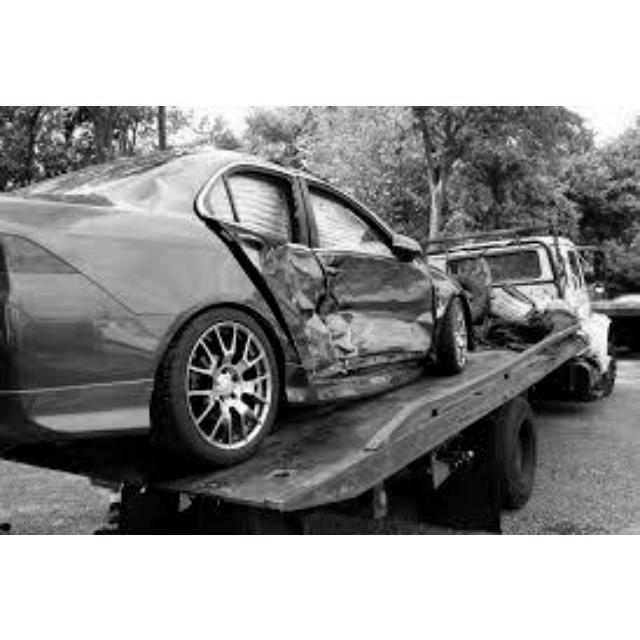Runningboard-Damage: (274, 346, 439, 404)
doorouter-dent: (330, 232, 425, 362), (274, 234, 337, 371)
